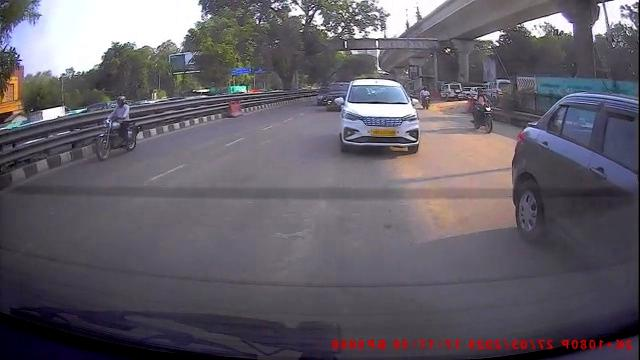motorcycle_with_helmet: (93, 94, 139, 162), (470, 85, 497, 135)
